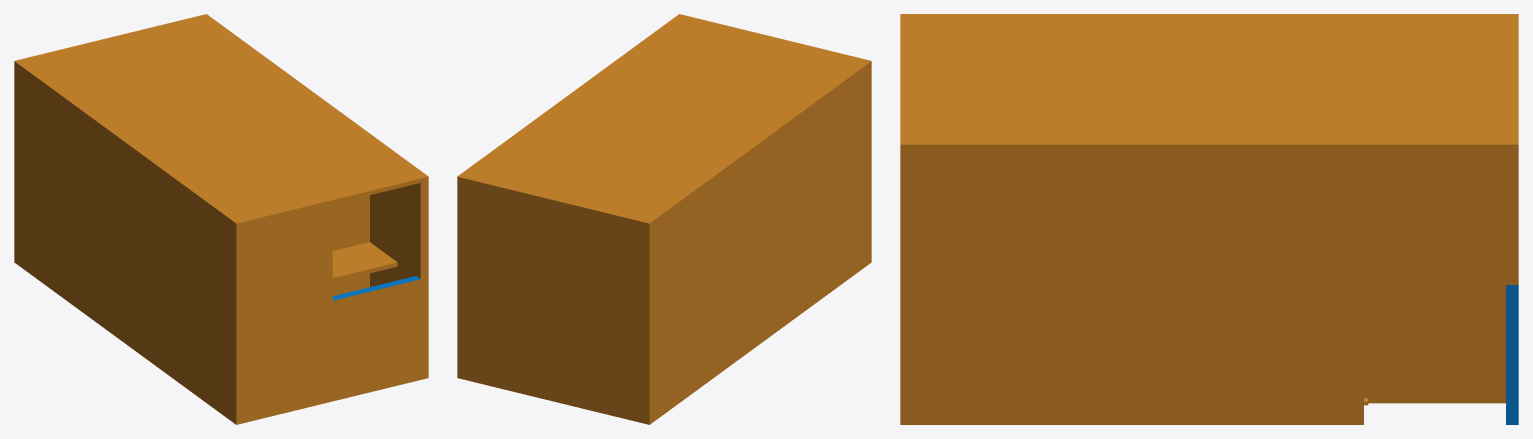
The model's file is LM2-3_Practice 1.FBX.
3 views of the same model, side by side, from view 1: azimuth 30°, elevation 25°; view 2: azimuth 150°, elevation 25°; view 3: azimuth 270°, elevation 25° (orthographic). The views are drawn at different scales.
Visible parts, largest first — view 1: LM2-3_Practice_Jump; view 2: LM2-3_Practice_Jump; view 3: LM2-3_Practice_Jump.
Boxes of the visible parts, x1,y1,x2,y2 form: LM2-3_Practice_Jump: (14,14,428,424); LM2-3_Practice_Jump: (457,14,871,424); LM2-3_Practice_Jump: (900,14,1518,424).
Size of the model in its own units: 48 by 48.01 by 96.
